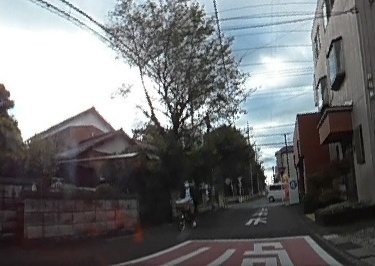person: (176, 178, 201, 230)
